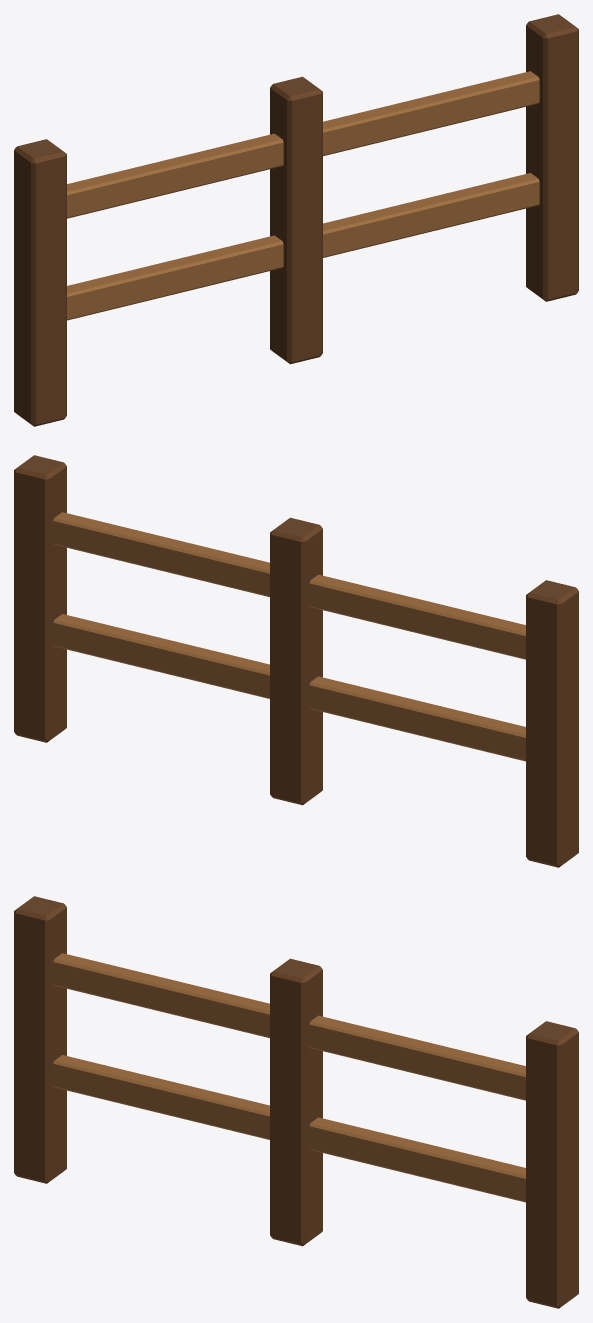
File: Fence_Wood_Straight.fbx
3 views of the same model, one above another, from view 1: azimuth 30°, elevation 25°; view 2: azimuth 150°, elevation 25°; view 3: azimuth 330°, elevation 25° (orthographic).
Visible parts, largest first — view 1: Fence_Wood_Straight; view 2: Fence_Wood_Straight; view 3: Fence_Wood_Straight.
Boxes of the visible parts, x1,y1,x2,y2 form: Fence_Wood_Straight: (14,14,578,426); Fence_Wood_Straight: (14,455,578,867); Fence_Wood_Straight: (14,896,578,1308).
Size of the model in its own units: 2.14 by 1 by 0.14.
1 material, 1 textured.
